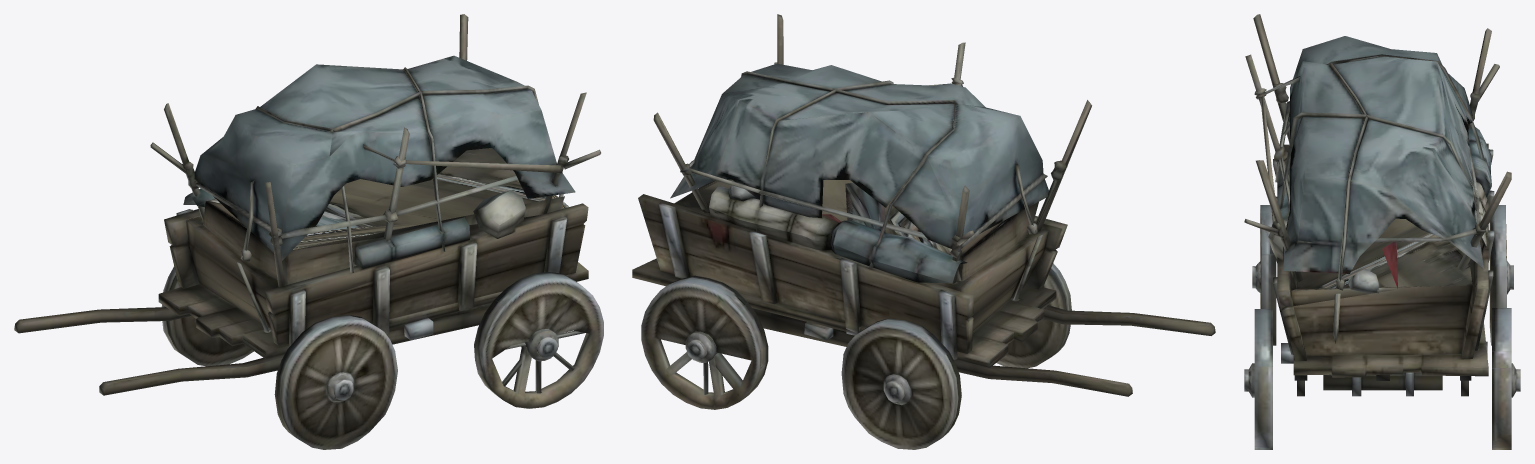
The model's file is obj_loot_cart.glb.
3 renders of one model, left to right at view 1: azimuth 30°, elevation 25°; view 2: azimuth 150°, elevation 25°; view 3: azimuth 270°, elevation 25°, orthographic. The views are drawn at different scales.
Visible parts, largest first — view 1: model; view 2: model; view 3: model.
Boxes of the visible parts, x1,y1,x2,y2 form: model: (14, 14, 603, 449); model: (632, 14, 1215, 449); model: (1244, 14, 1520, 449).
Bounding box in the file's own units: 1.66 × 1 × 0.785.
1 material, 1 textured.
